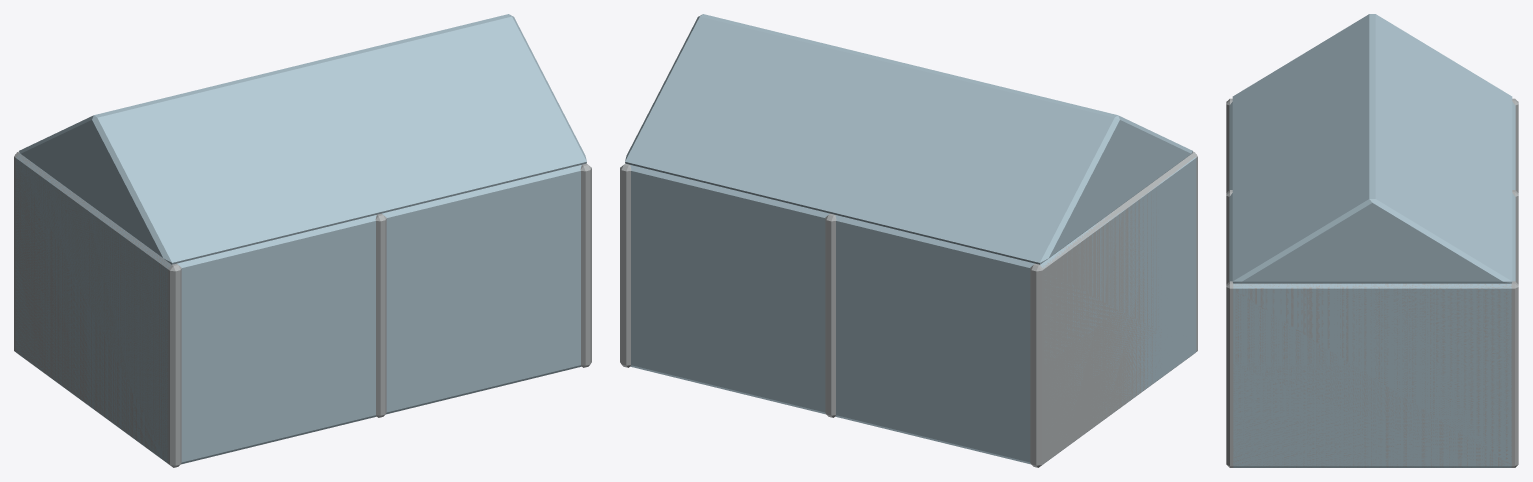
The model's file is greenhouse.glb.
The picture shows the model from 3 angles, left to right: view 1: azimuth 30°, elevation 25°; view 2: azimuth 150°, elevation 25°; view 3: azimuth 270°, elevation 25°; orthographic projection. The views are drawn at different scales.
Parts seen in each view (by area): view 1: base, roof, frame, frame.001, frame.002; view 2: base, roof, frame, frame.001, frame.002; view 3: roof, base, frame.002, frame, frame.001.
Boxes of the visible parts, box(x1,y1,x2,y2) form: base: box(15, 153, 581, 464); roof: box(19, 14, 586, 264); frame: box(14, 151, 181, 467); frame.001: box(375, 213, 386, 417); frame.002: box(580, 163, 591, 367); base: box(630, 157, 1196, 464); roof: box(625, 14, 1192, 264); frame: box(1030, 151, 1197, 467); frame.001: box(825, 213, 836, 417); frame.002: box(620, 163, 631, 367); roof: box(1232, 14, 1512, 283); base: box(1229, 102, 1515, 467); frame.002: box(1226, 281, 1518, 467); frame: box(1226, 98, 1518, 192); frame.001: box(1226, 190, 1518, 284).
Size of the model in its own units: 1.4 by 0.9333 by 0.92.
